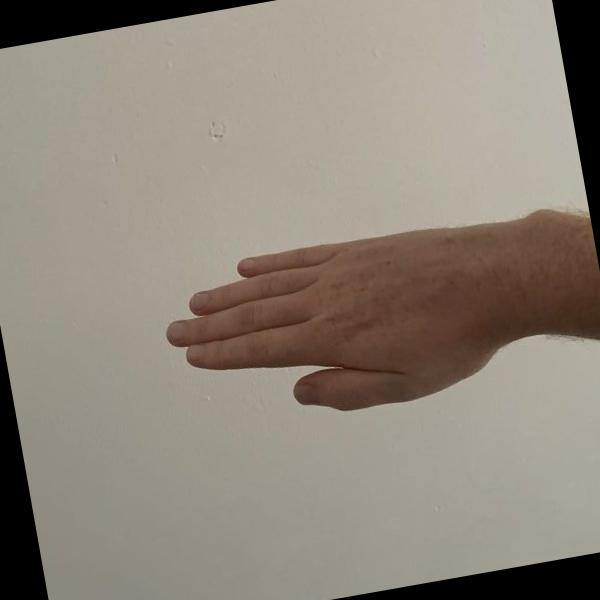papper: (147, 202, 570, 444)
